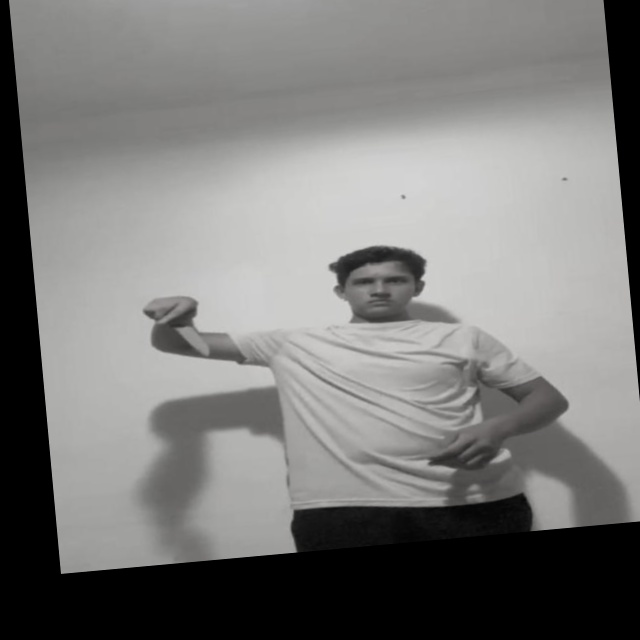Sharp-Object: (171, 324, 215, 358)
